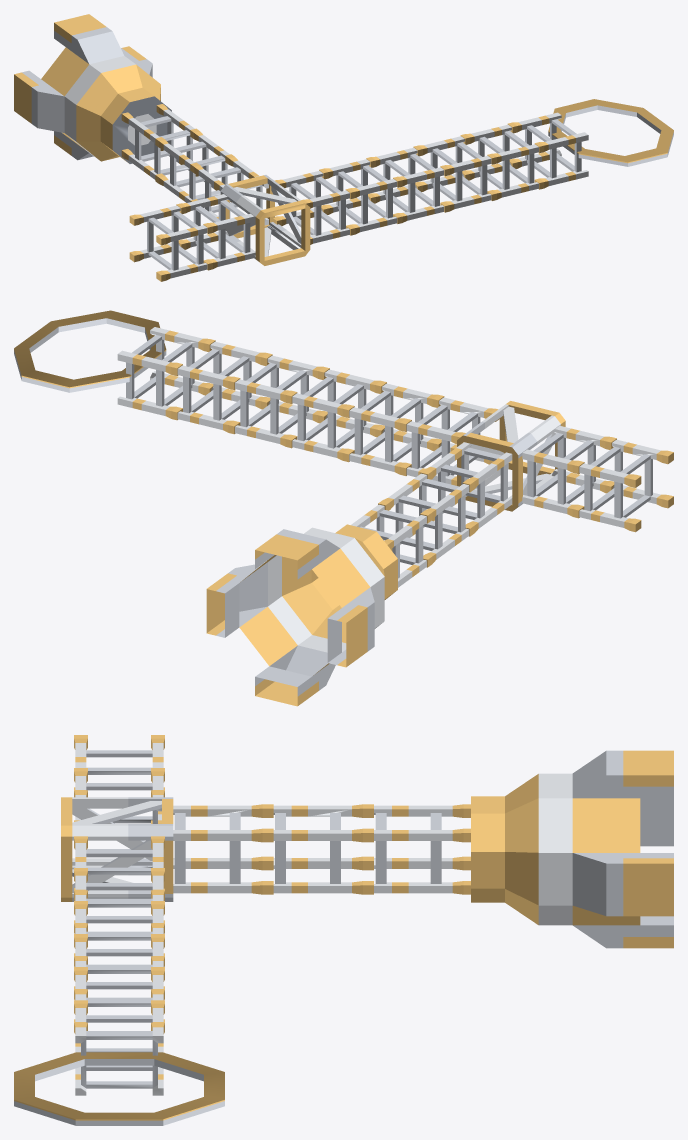
The model's file is crane_2.fbx.
The picture shows the model from 3 angles, top to bottom: view 1: azimuth 30°, elevation 25°; view 2: azimuth 150°, elevation 25°; view 3: azimuth 270°, elevation 25°; orthographic projection. The views are drawn at different scales.
Parts seen in each view (by area): view 1: machine_barrelLarge; view 2: machine_barrelLarge; view 3: machine_barrelLarge.
Part boxes in pixels (x1,y1,x2,y2): machine_barrelLarge: (14,14,673,281); machine_barrelLarge: (14,310,673,706); machine_barrelLarge: (14,735,673,1125).
Size of the model in its own units: 3.36 by 0.7543 by 2.61.
